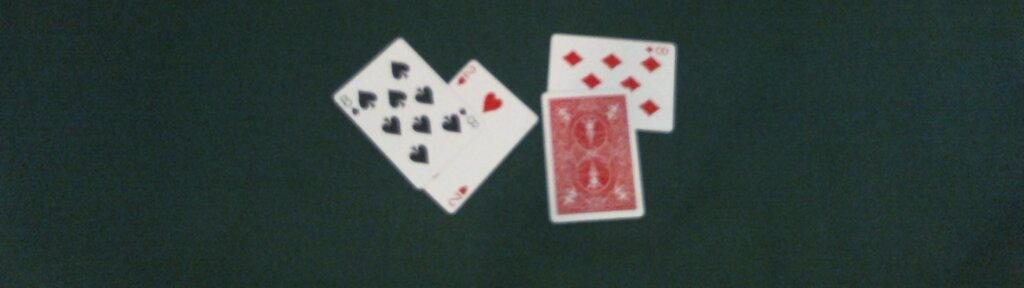back: (541, 87, 647, 221)
eight: (329, 37, 485, 189), (547, 33, 675, 133)
two: (422, 59, 541, 213)
